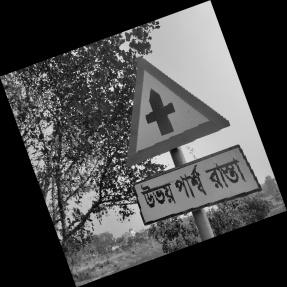Crossroad: (122, 58, 262, 229)
